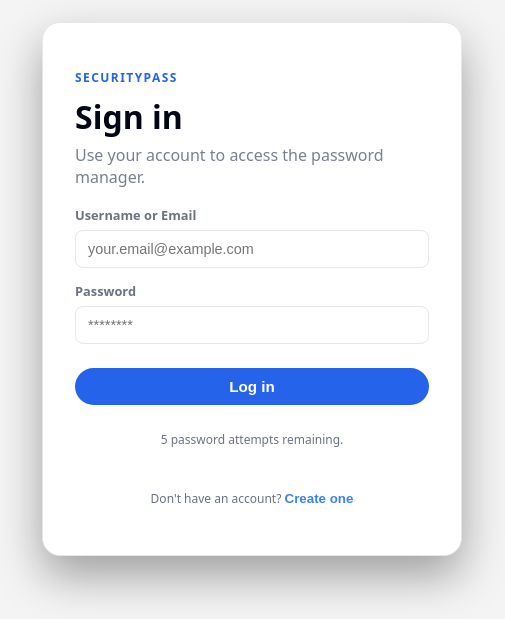
Test: Login Page › shows loading state while logging in
Type "test@test.com" into the field with placeholder "your.email@example.com".
click(252, 250); type("test@test.com")  # box 75,230 -> 429,268
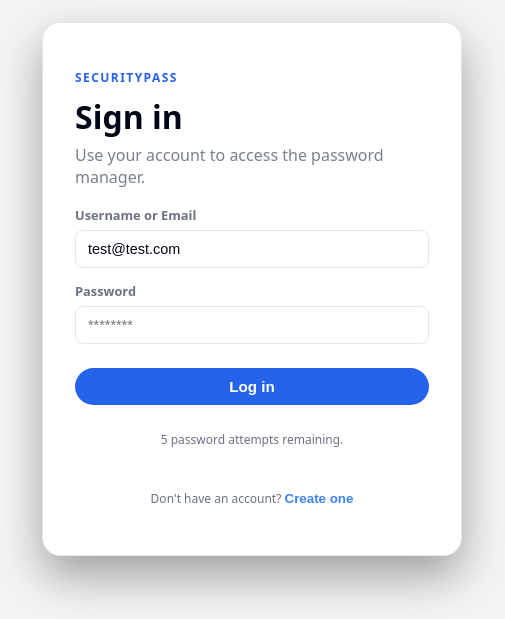
Type "password" into the password field with placeholder "********".
click(252, 326); type("password")  # box 75,306 -> 429,344
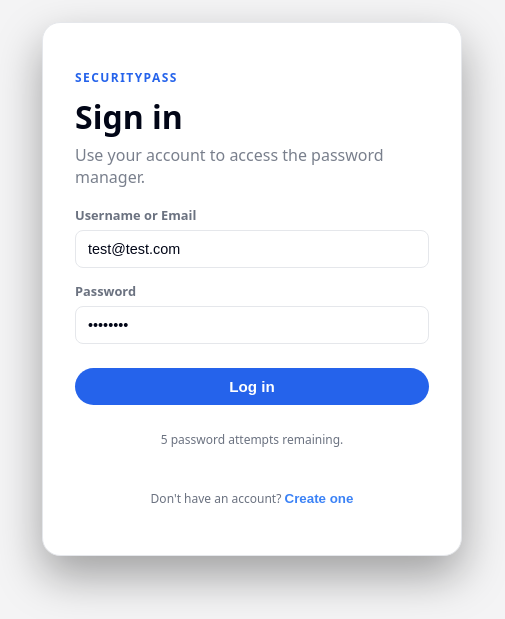
Click the button "Log in".
click(252, 387)  # box 75,368 -> 429,406
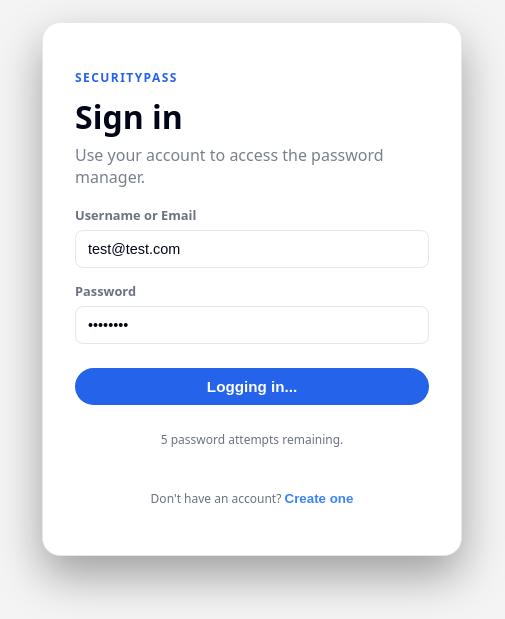
Check: the button "Logging in..." is shown, box 75,368 -> 429,406
